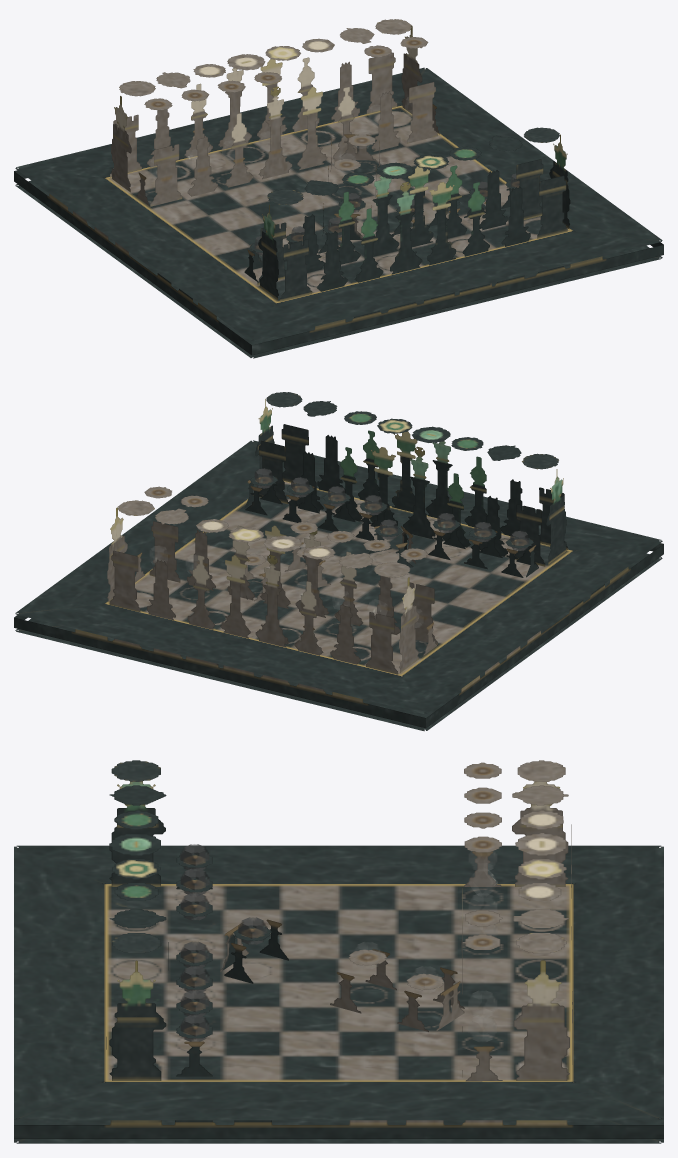
Rendered from chess-512.glb.
The picture shows the model from 3 angles, top to bottom: view 1: azimuth 30°, elevation 25°; view 2: azimuth 150°, elevation 25°; view 3: azimuth 270°, elevation 25°; orthographic projection. The views are drawn at different scales.
Parts seen in each view (by area): view 1: box_impostor; view 2: box_impostor; view 3: box_impostor (×6).
Part boxes in pixels (left/top/right/bottom): box_impostor: left=14, top=19, right=663, bottom=358; box_impostor: left=14, top=392, right=663, bottom=731; box_impostor (×6): left=14, top=760, right=663, bottom=1143.
Size of the model in its own units: 0.7055 by 0.1798 by 0.7055.
Materials: 17 (17 with a texture image).
